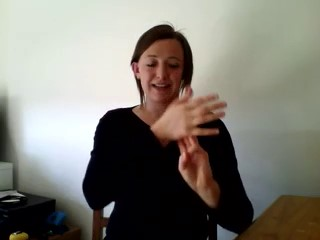M: (162, 79, 231, 195)
